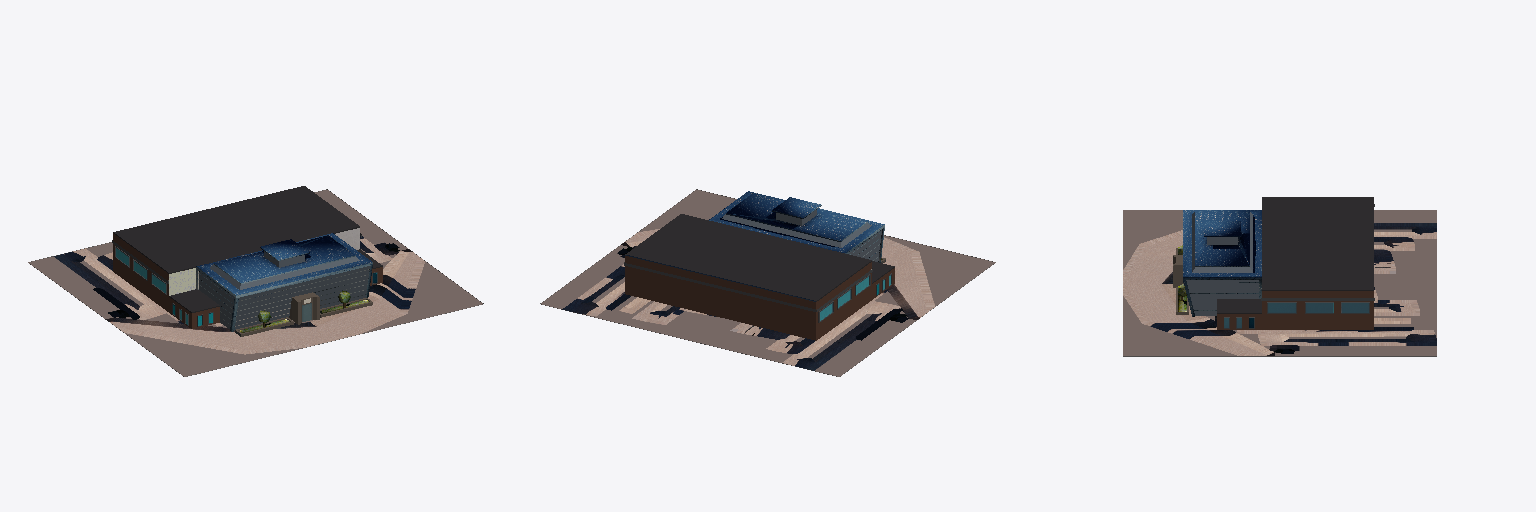
3 renders of one model, left to right at view 1: azimuth 30°, elevation 25°; view 2: azimuth 150°, elevation 25°; view 3: azimuth 270°, elevation 25°, orthographic.
Parts seen in each view (by area): view 1: Mesh121 G_3DGeom_18 Assembly_5 SimLab_skp Assembly_2 Model, Mesh99 G_3DGeom_11 Assembly_5 SimLab_skp Assembly_2 Model, Mesh30 G_3DGeom_3 Assembly_5 SimLab_skp Assembly_2 Model, Mesh29 G_3DGeom_3 Assembly_5 SimLab_skp Assembly_2 Model, Mesh26 G_3DGeom_2 Assembly_5 SimLab_skp Assembly_2 Model, Mesh39 G_3DGeom_4 Assembly_5 SimLab_skp Assembly_2 Model, Mesh100 G_3DGeom_11 Assembly_5 SimLab_skp Assembly_2 Model, Mesh101 G_3DGeom_11 Assembly_5 SimLab_skp Assembly_2 Model, Mesh31 G_3DGeom_3 Assembly_5 SimLab_skp Assembly_2 Model, Mesh123 Model, Mesh113 G_3DGeom_15 Assembly_5 SimLab_skp Assembly_2 Model, Mesh48 G_3DGeom_4 Assembly_5 SimLab_skp Assembly_2 Model (+1 smaller); view 2: Mesh121 G_3DGeom_18 Assembly_5 SimLab_skp Assembly_2 Model, Mesh99 G_3DGeom_11 Assembly_5 SimLab_skp Assembly_2 Model, Mesh28 G_3DGeom_2 Assembly_5 SimLab_skp Assembly_2 Model, Mesh30 G_3DGeom_3 Assembly_5 SimLab_skp Assembly_2 Model, Mesh26 G_3DGeom_2 Assembly_5 SimLab_skp Assembly_2 Model, Mesh29 G_3DGeom_3 Assembly_5 SimLab_skp Assembly_2 Model, Mesh39 G_3DGeom_4 Assembly_5 SimLab_skp Assembly_2 Model, Mesh100 G_3DGeom_11 Assembly_5 SimLab_skp Assembly_2 Model, Mesh72 G_3DGeom_6 Assembly_5 SimLab_skp Assembly_2 Model, Mesh31 G_3DGeom_3 Assembly_5 SimLab_skp Assembly_2 Model; view 3: Mesh121 G_3DGeom_18 Assembly_5 SimLab_skp Assembly_2 Model, Mesh99 G_3DGeom_11 Assembly_5 SimLab_skp Assembly_2 Model, Mesh27 G_3DGeom_2 Assembly_5 SimLab_skp Assembly_2 Model, Mesh30 G_3DGeom_3 Assembly_5 SimLab_skp Assembly_2 Model, Mesh29 G_3DGeom_3 Assembly_5 SimLab_skp Assembly_2 Model, Mesh100 G_3DGeom_11 Assembly_5 SimLab_skp Assembly_2 Model, Mesh39 G_3DGeom_4 Assembly_5 SimLab_skp Assembly_2 Model, Mesh98 G_3DGeom_11 Assembly_5 SimLab_skp Assembly_2 Model, Mesh31 G_3DGeom_3 Assembly_5 SimLab_skp Assembly_2 Model.
Part boxes in pixels (left/top/right/bottom): Mesh121 G_3DGeom_18 Assembly_5 SimLab_skp Assembly_2 Model: left=28, top=190, right=482, bottom=376; Mesh99 G_3DGeom_11 Assembly_5 SimLab_skp Assembly_2 Model: left=114, top=186, right=359, bottom=265; Mesh30 G_3DGeom_3 Assembly_5 SimLab_skp Assembly_2 Model: left=214, top=235, right=355, bottom=283; Mesh29 G_3DGeom_3 Assembly_5 SimLab_skp Assembly_2 Model: left=196, top=233, right=372, bottom=331; Mesh26 G_3DGeom_2 Assembly_5 SimLab_skp Assembly_2 Model: left=113, top=233, right=219, bottom=328; Mesh39 G_3DGeom_4 Assembly_5 SimLab_skp Assembly_2 Model: left=210, top=256, right=359, bottom=289; Mesh100 G_3DGeom_11 Assembly_5 SimLab_skp Assembly_2 Model: left=113, top=232, right=195, bottom=273; Mesh101 G_3DGeom_11 Assembly_5 SimLab_skp Assembly_2 Model: left=169, top=289, right=219, bottom=312; Mesh31 G_3DGeom_3 Assembly_5 SimLab_skp Assembly_2 Model: left=260, top=239, right=309, bottom=260; Mesh123 Model: left=169, top=268, right=195, bottom=295; Mesh113 G_3DGeom_15 Assembly_5 SimLab_skp Assembly_2 Model: left=289, top=292, right=319, bottom=324; Mesh48 G_3DGeom_4 Assembly_5 SimLab_skp Assembly_2 Model: left=238, top=270, right=369, bottom=305; Mesh121 G_3DGeom_18 Assembly_5 SimLab_skp Assembly_2 Model: left=541, top=190, right=995, bottom=376; Mesh99 G_3DGeom_11 Assembly_5 SimLab_skp Assembly_2 Model: left=625, top=214, right=844, bottom=300; Mesh28 G_3DGeom_2 Assembly_5 SimLab_skp Assembly_2 Model: left=625, top=256, right=815, bottom=340; Mesh30 G_3DGeom_3 Assembly_5 SimLab_skp Assembly_2 Model: left=726, top=193, right=867, bottom=241; Mesh26 G_3DGeom_2 Assembly_5 SimLab_skp Assembly_2 Model: left=816, top=263, right=894, bottom=340; Mesh29 G_3DGeom_3 Assembly_5 SimLab_skp Assembly_2 Model: left=709, top=191, right=884, bottom=262; Mesh39 G_3DGeom_4 Assembly_5 SimLab_skp Assembly_2 Model: left=722, top=214, right=871, bottom=247; Mesh100 G_3DGeom_11 Assembly_5 SimLab_skp Assembly_2 Model: left=816, top=254, right=871, bottom=301; Mesh72 G_3DGeom_6 Assembly_5 SimLab_skp Assembly_2 Model: left=624, top=262, right=872, bottom=311; Mesh31 G_3DGeom_3 Assembly_5 SimLab_skp Assembly_2 Model: left=772, top=197, right=821, bottom=218; Mesh121 G_3DGeom_18 Assembly_5 SimLab_skp Assembly_2 Model: left=1123, top=210, right=1436, bottom=355; Mesh99 G_3DGeom_11 Assembly_5 SimLab_skp Assembly_2 Model: left=1262, top=197, right=1373, bottom=290; Mesh27 G_3DGeom_2 Assembly_5 SimLab_skp Assembly_2 Model: left=1217, top=291, right=1373, bottom=329; Mesh30 G_3DGeom_3 Assembly_5 SimLab_skp Assembly_2 Model: left=1195, top=210, right=1249, bottom=266; Mesh29 G_3DGeom_3 Assembly_5 SimLab_skp Assembly_2 Model: left=1183, top=210, right=1261, bottom=316; Mesh100 G_3DGeom_11 Assembly_5 SimLab_skp Assembly_2 Model: left=1262, top=197, right=1367, bottom=209; Mesh39 G_3DGeom_4 Assembly_5 SimLab_skp Assembly_2 Model: left=1192, top=212, right=1252, bottom=272; Mesh98 G_3DGeom_11 Assembly_5 SimLab_skp Assembly_2 Model: left=1217, top=299, right=1261, bottom=313; Mesh31 G_3DGeom_3 Assembly_5 SimLab_skp Assembly_2 Model: left=1204, top=221, right=1240, bottom=236.
Bounding box in the file's own units: 55.15 × 9.65 × 50.
31 materials, 19 textured.